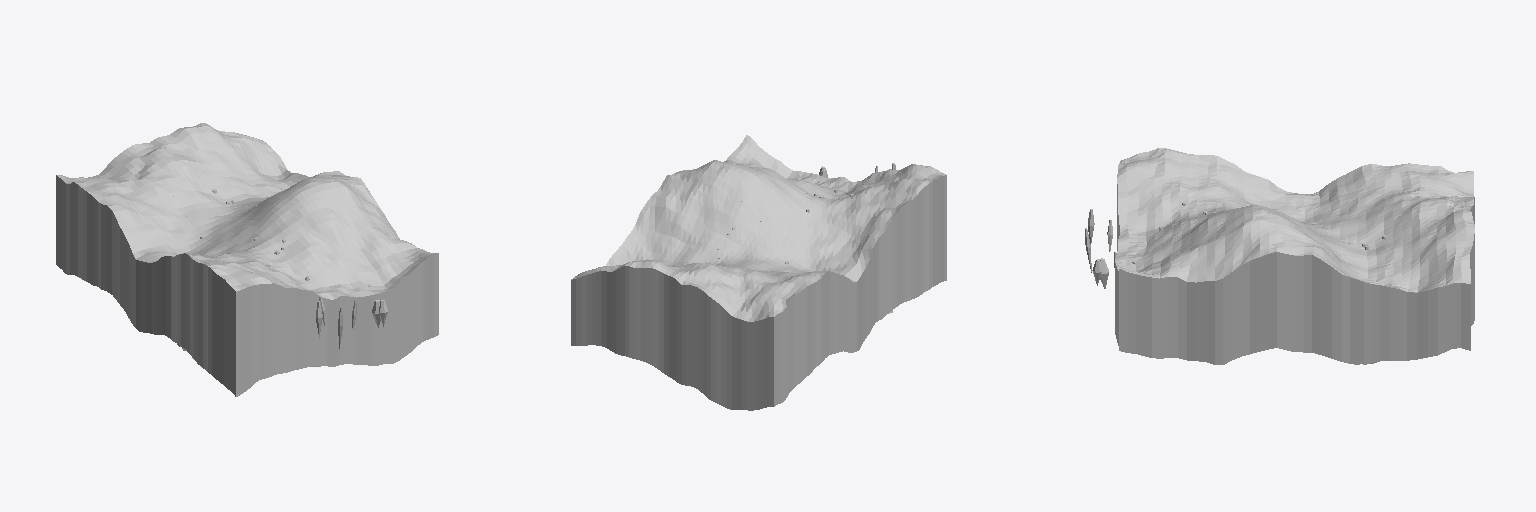
The model's file is crystal_cave_2.obj.
3 views of the same model, side by side, from view 1: azimuth 30°, elevation 25°; view 2: azimuth 150°, elevation 25°; view 3: azimuth 270°, elevation 25° (orthographic).
Size of the model in its own units: 41.14 by 25.93 by 66.33.